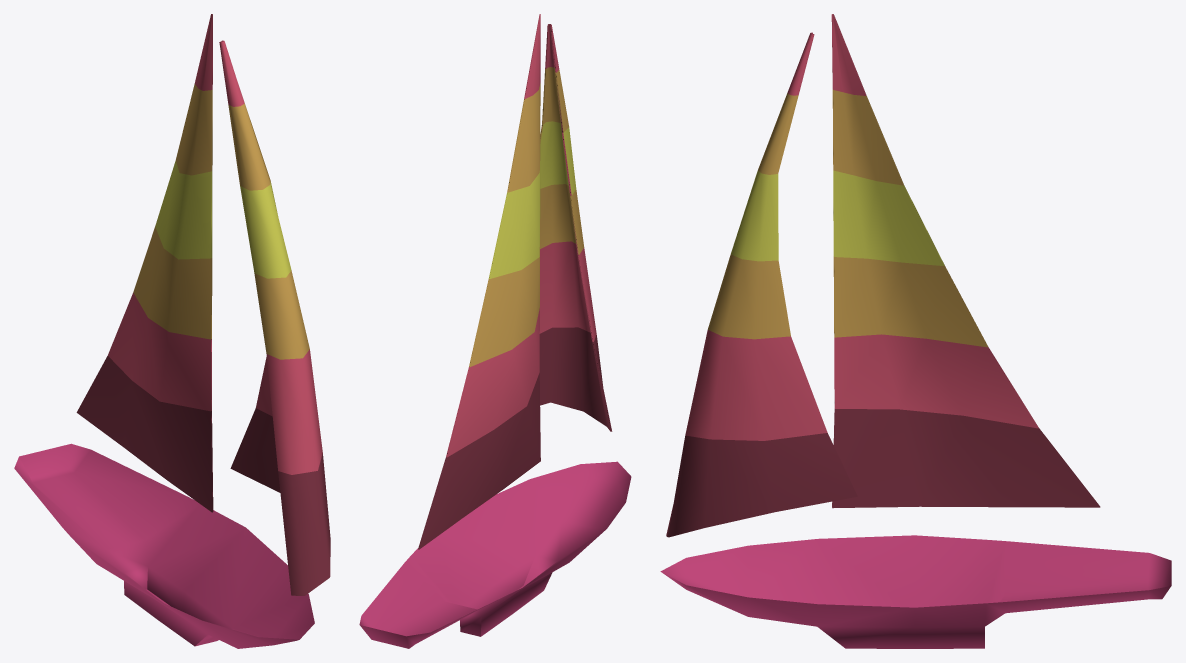
The model's file is vehicles-boats-windsurf-board_v1.glb.
The picture shows the model from 3 angles, left to right: view 1: azimuth 30°, elevation 25°; view 2: azimuth 150°, elevation 25°; view 3: azimuth 270°, elevation 25°; orthographic projection. The views are drawn at different scales.
Parts seen in each view (by area): view 1: Windsurf Board; view 2: Windsurf Board; view 3: Windsurf Board.
Boxes of the visible parts, x1=… form: Windsurf Board: x1=14, y1=14, x2=330, y2=648; Windsurf Board: x1=359, y1=14, x2=631, y2=648; Windsurf Board: x1=660, y1=14, x2=1171, y2=648.
Bounding box in the file's own units: 1.11 × 4.5 × 3.32.
